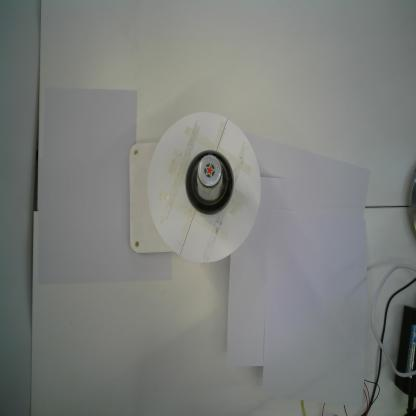Alcohol: (183, 147, 236, 220)
